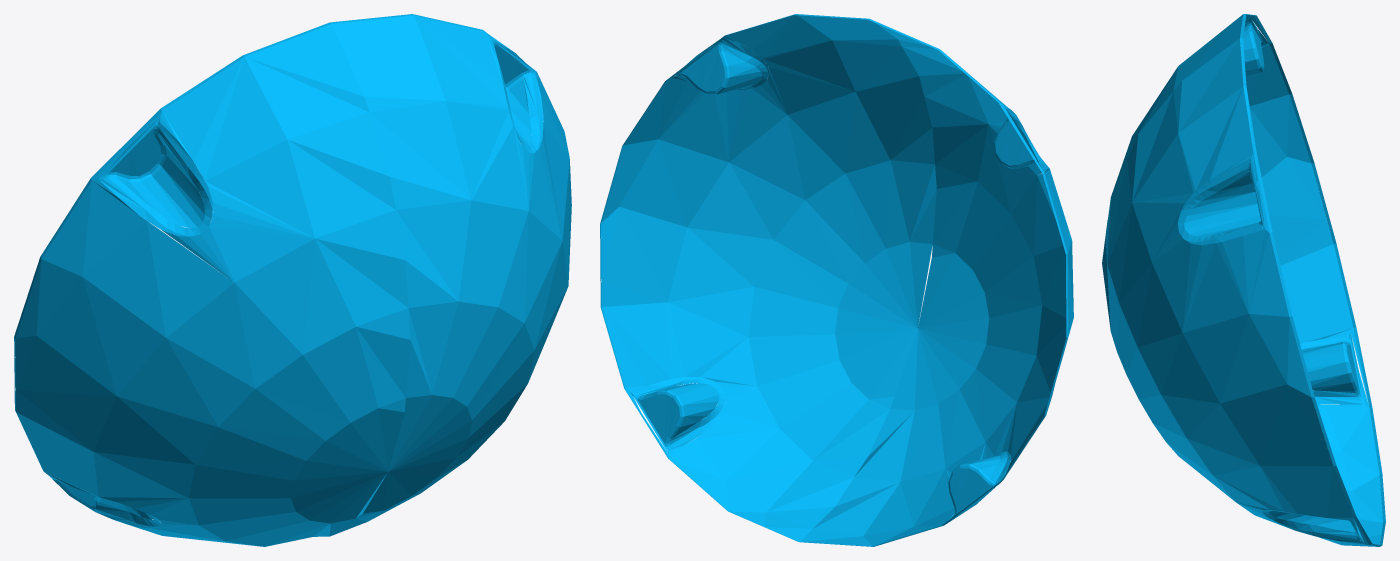
3 renders of one model, left to right at view 1: azimuth 30°, elevation 25°; view 2: azimuth 150°, elevation 25°; view 3: azimuth 270°, elevation 25°, orthographic. The views are drawn at different scales.
Visible parts, largest first — view 1: HC10.001; view 2: HC10.001; view 3: HC10.001.
Part boxes in pixels (<box>): HC10.001: <box>14,14,571,546</box>; HC10.001: <box>600,14,1073,546</box>; HC10.001: <box>1102,14,1385,546</box>.
Size of the model in its own units: 15.73 by 15.19 by 8.07.
